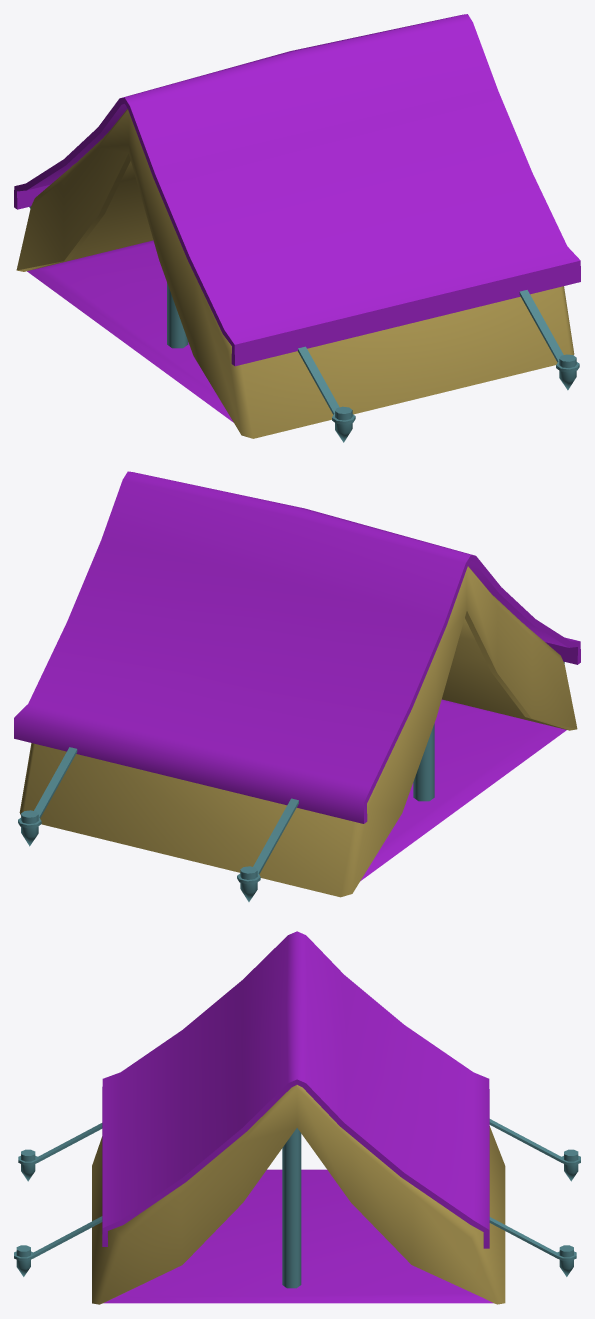
The model's file is Tent Small.fbx.
3 views of the same model, one above another, from view 1: azimuth 30°, elevation 25°; view 2: azimuth 150°, elevation 25°; view 3: azimuth 270°, elevation 25° (orthographic). The views are drawn at different scales.
Visible parts, largest first — view 1: Tent Small; view 2: Tent Small; view 3: Tent Small.
Part boxes in pixels (box(x1,y1,x2,y2)): Tent Small: box(14, 14, 580, 442); Tent Small: box(14, 471, 580, 901); Tent Small: box(14, 931, 580, 1304).
Bounding box in the file's own units: 7.76 × 5.63 × 12.31.
